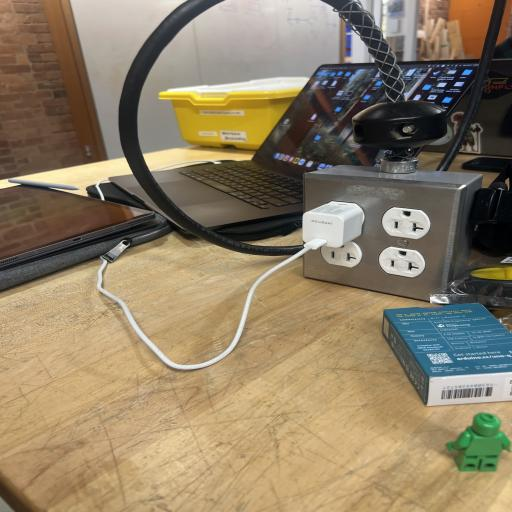green-lego-minifigure-detector: (446, 413, 510, 471), (483, 448, 484, 448)
